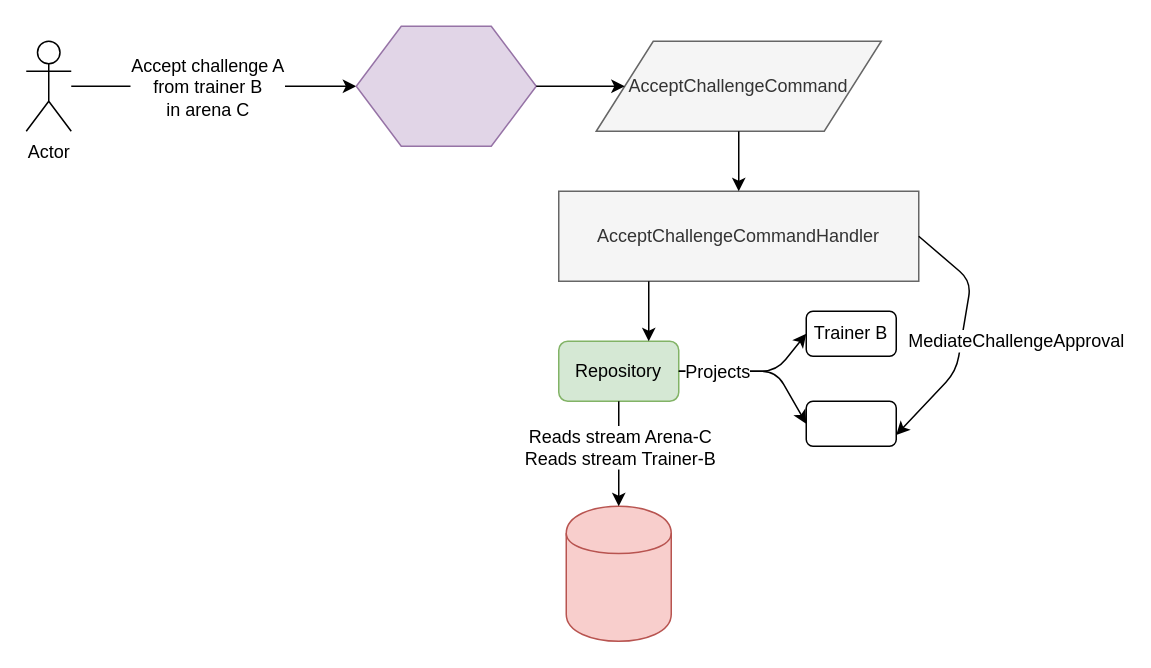
The diagram is 1151 pixels wide and 668 high, and some of its shapes have lost their labels. Each missing label, with the centre of its shape:
"Arena C" goes at pixel 850 423.
"BattlesService" goes at pixel 445 85.
"EventStore" goes at pixel 618 573.
